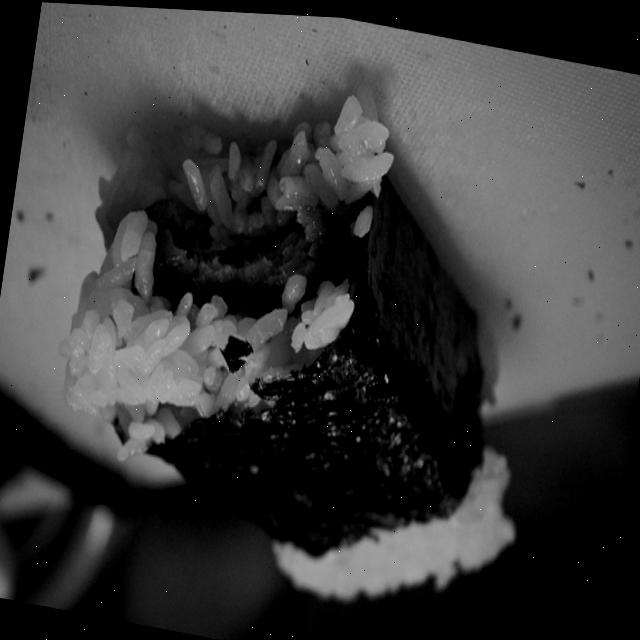寿司卷物: (16, 32, 593, 640)
